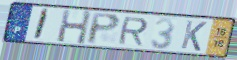3: (150, 16, 177, 50)
H: (55, 9, 93, 47)
I: (32, 7, 52, 41)
K: (179, 19, 208, 53)
P: (86, 12, 122, 46)
R: (116, 16, 150, 47)
